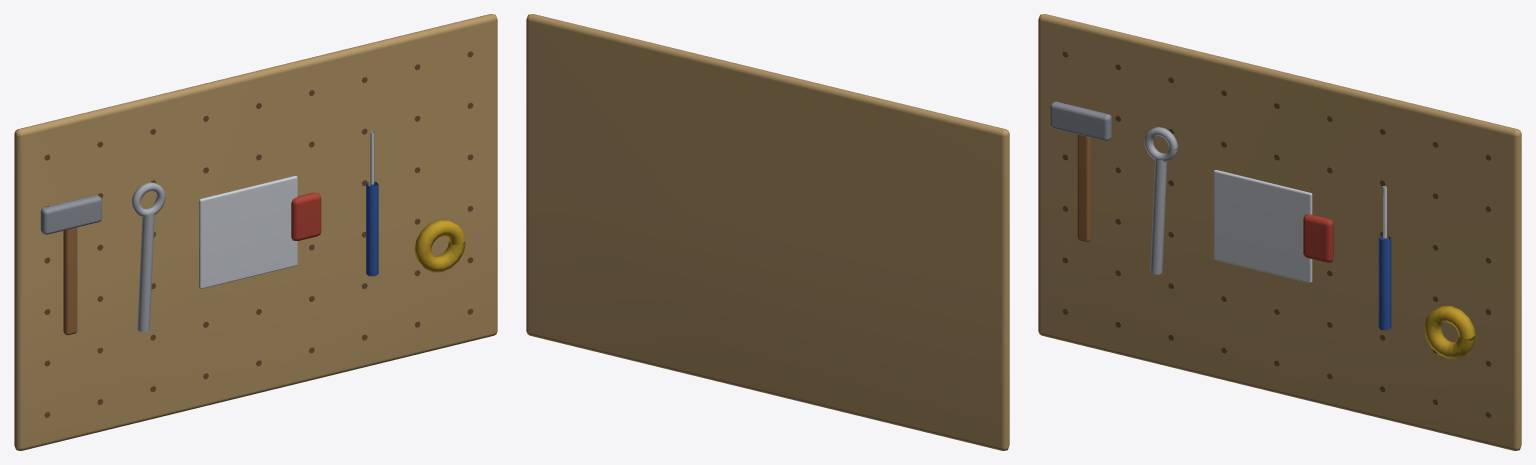
The model's file is furn_pegboard.glb.
3 renders of one model, left to right at view 1: azimuth 30°, elevation 25°; view 2: azimuth 150°, elevation 25°; view 3: azimuth 330°, elevation 25°, orthographic.
Visible parts, largest first — view 1: furn_pegboard_main, furn_pegboard_gloss; view 2: furn_pegboard_main; view 3: furn_pegboard_main, furn_pegboard_gloss.
Boxes of the visible parts, left/top/right/bottom form: furn_pegboard_main: left=14, top=14, right=497, bottom=450; furn_pegboard_gloss: left=40, top=131, right=374, bottom=331; furn_pegboard_main: left=526, top=14, right=1009, bottom=450; furn_pegboard_main: left=1038, top=14, right=1521, bottom=450; furn_pegboard_gloss: left=1050, top=101, right=1386, bottom=282.
Bounding box in the file's own units: 1.96 × 1.25 × 0.1.
